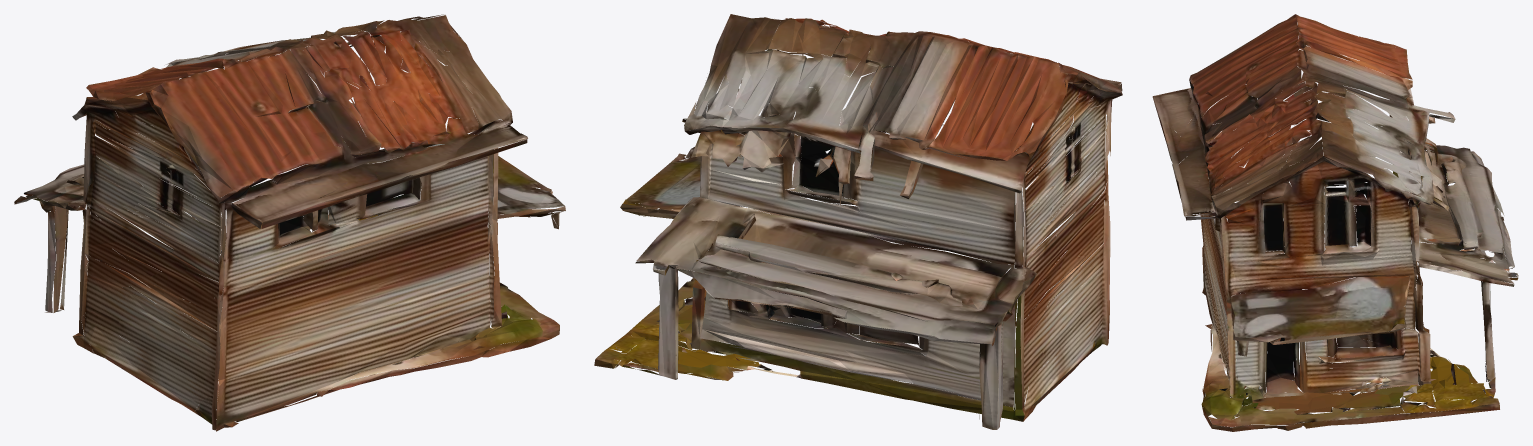
The model's file is collapsed-house-corner.glb.
The picture shows the model from 3 angles, left to right: view 1: azimuth 30°, elevation 25°; view 2: azimuth 150°, elevation 25°; view 3: azimuth 270°, elevation 25°; orthographic projection. The views are drawn at different scales.
Visible parts, largest first — view 1: tmpg0zxl2vl.ply; view 2: tmpg0zxl2vl.ply; view 3: tmpg0zxl2vl.ply.
Boxes of the visible parts, x1,y1,x2,y2 form: tmpg0zxl2vl.ply: (14, 14, 565, 431); tmpg0zxl2vl.ply: (594, 14, 1122, 429); tmpg0zxl2vl.ply: (1152, 14, 1518, 431).
Bounding box in the file's own units: 7 × 5 × 6.
Materials: 1 (1 with a texture image).
